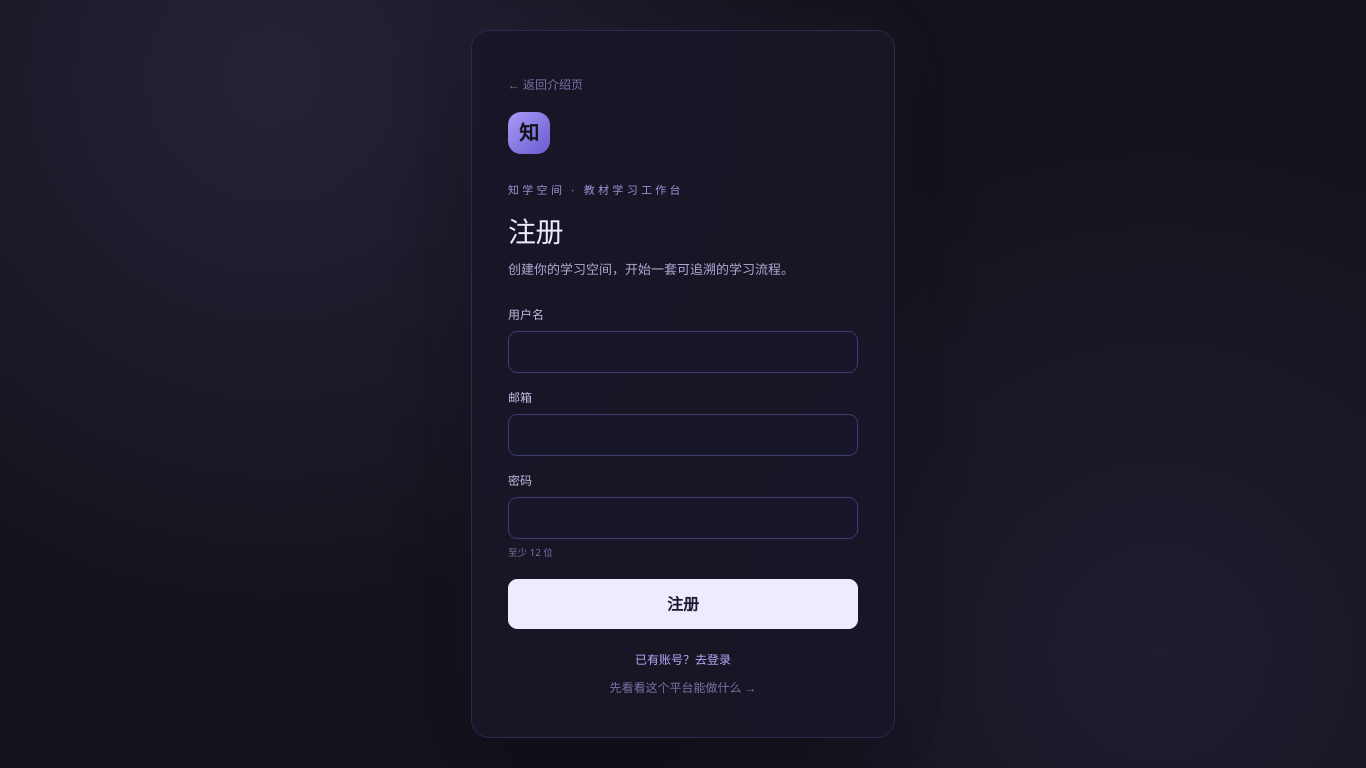
Test: AuthForm › explains the password requirement before submitting registration
Type "wtd" into the field labelled "用户名".
click(683, 352); type("wtd")  # box x1=508 y1=331 x2=858 y2=373
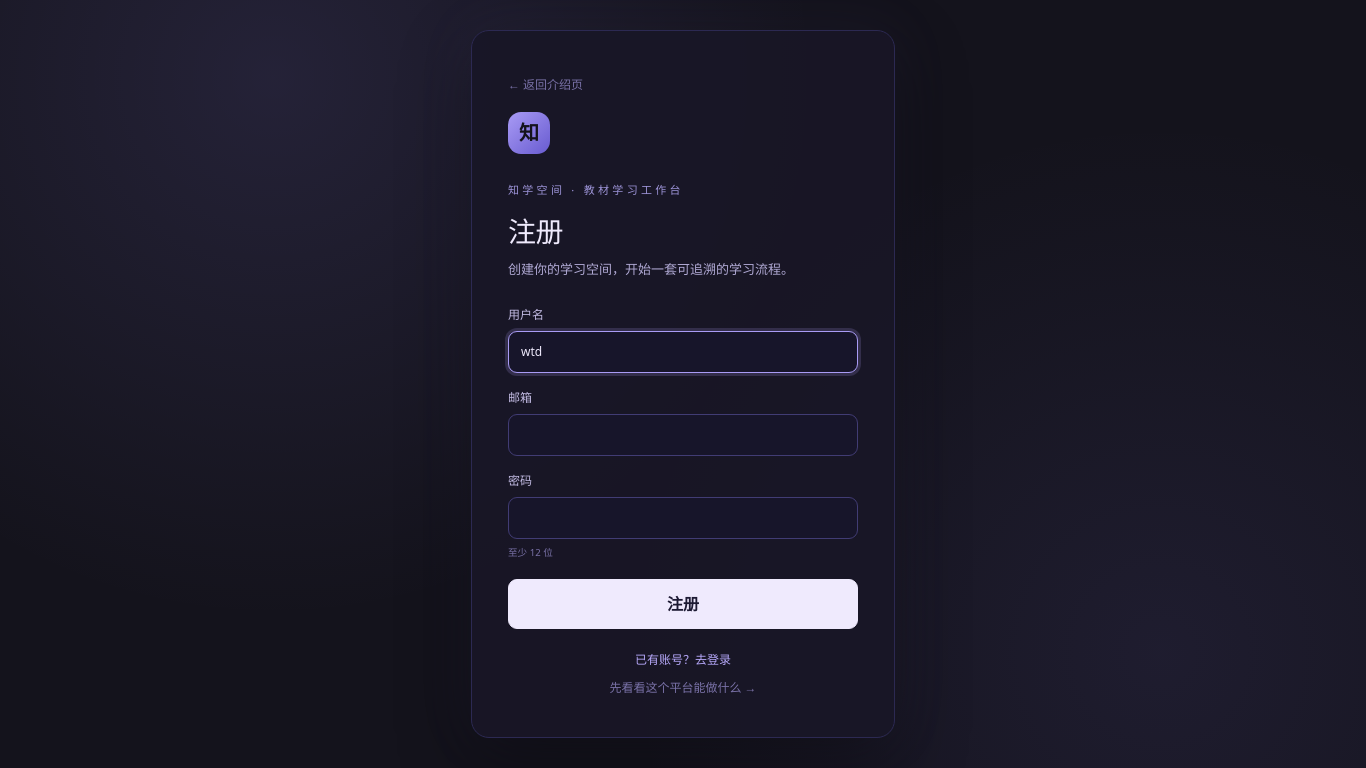
Type "wtd00005@163.com" into the field labelled "邮箱".
click(683, 435); type("wtd00005@163.com")  # box x1=508 y1=414 x2=858 y2=456
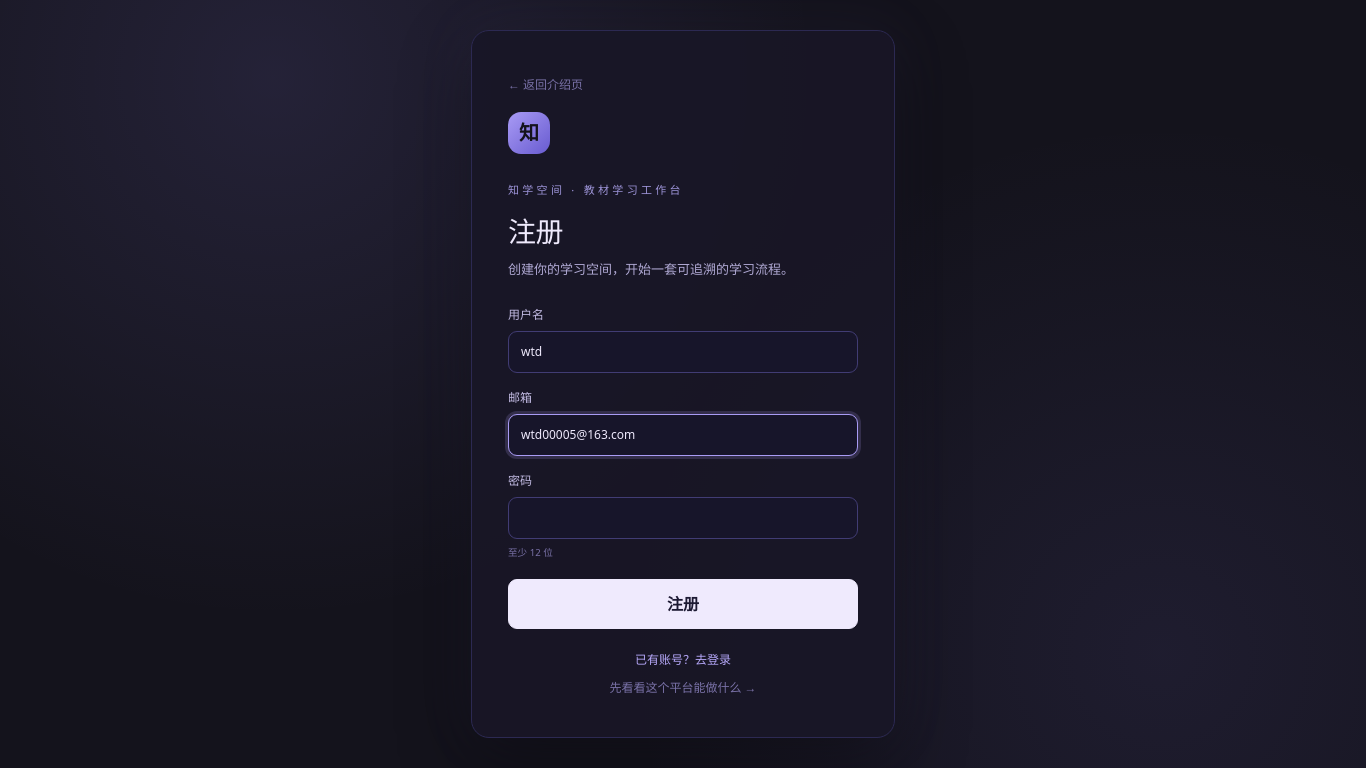
Type "short-pass" into the password field labelled "密码".
click(683, 518); type("short-pass")  # box x1=508 y1=497 x2=858 y2=539
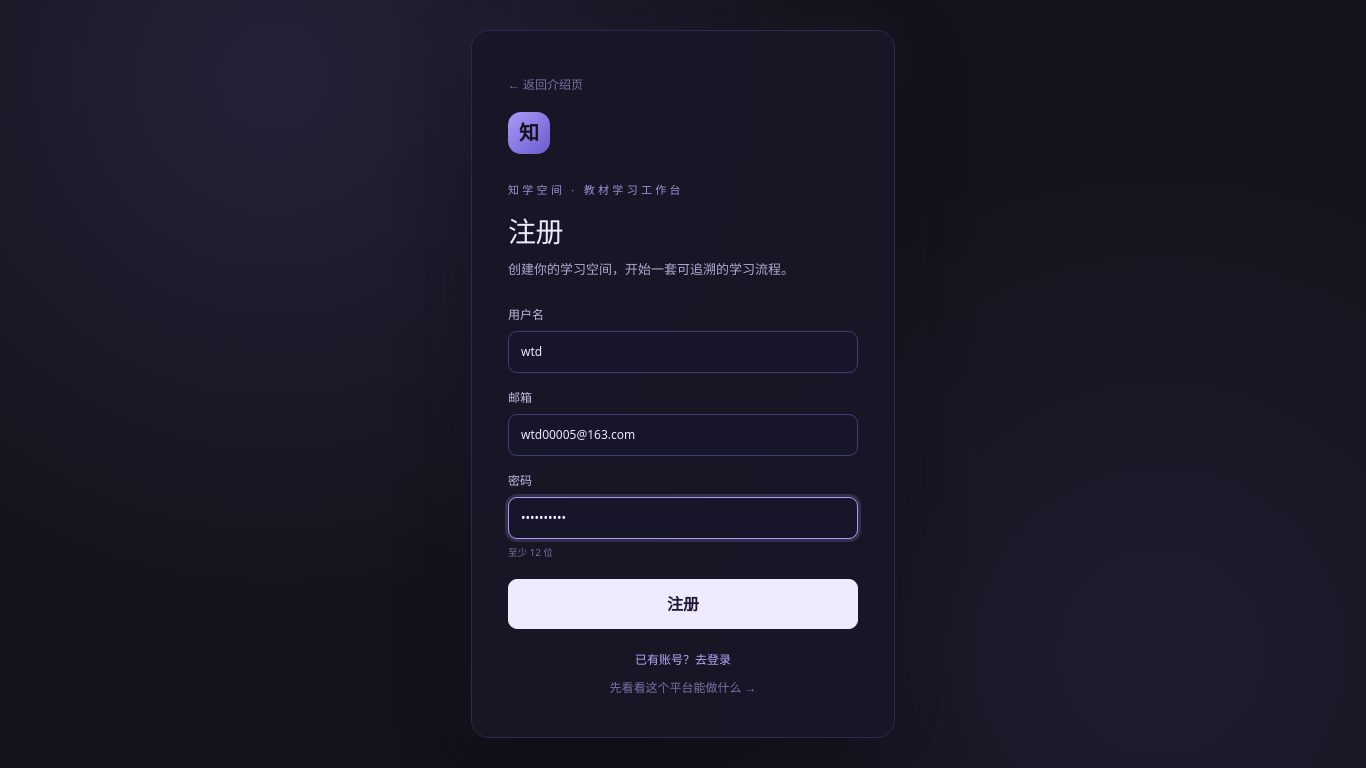
Click the button "注册".
click(683, 604)  # box x1=508 y1=579 x2=858 y2=629
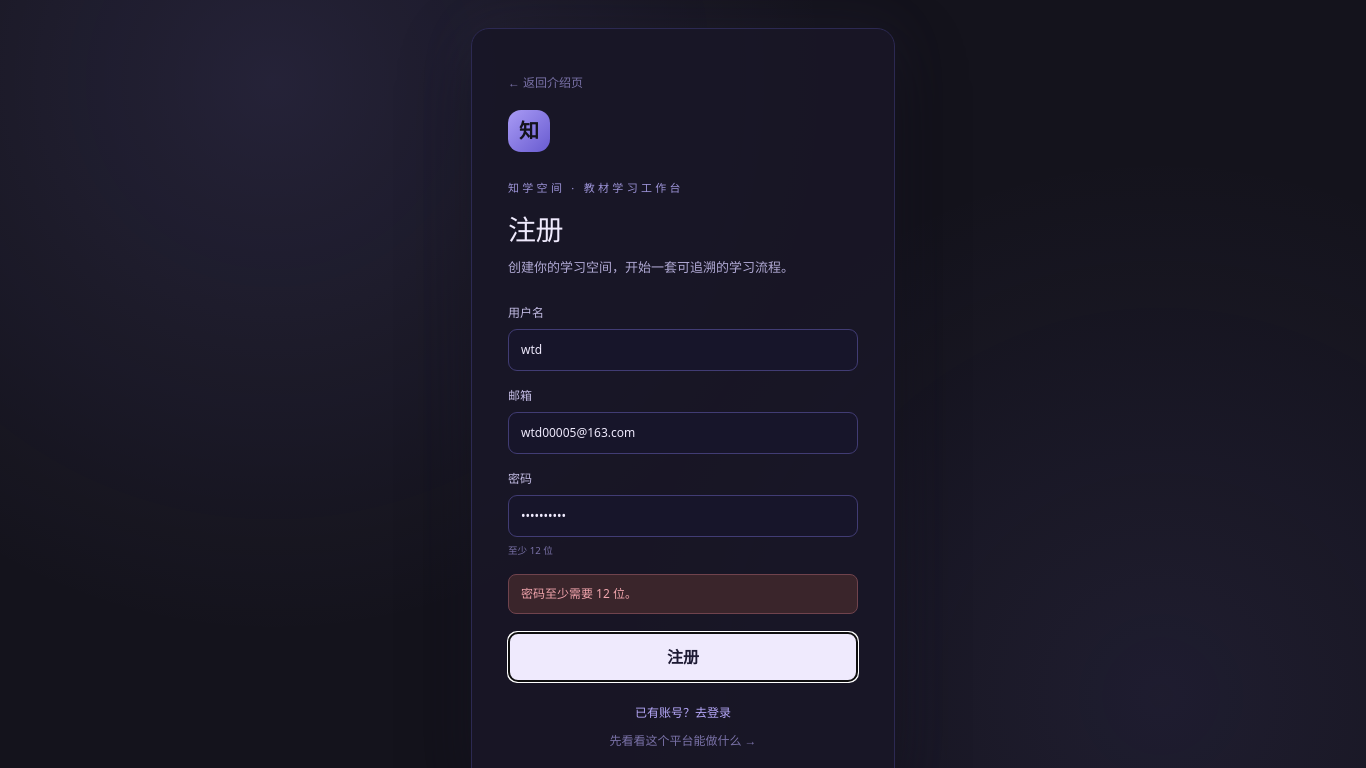
Expected: the message reads "密码至少需要 12 位。", x1=521 y1=585 x2=637 y2=602
